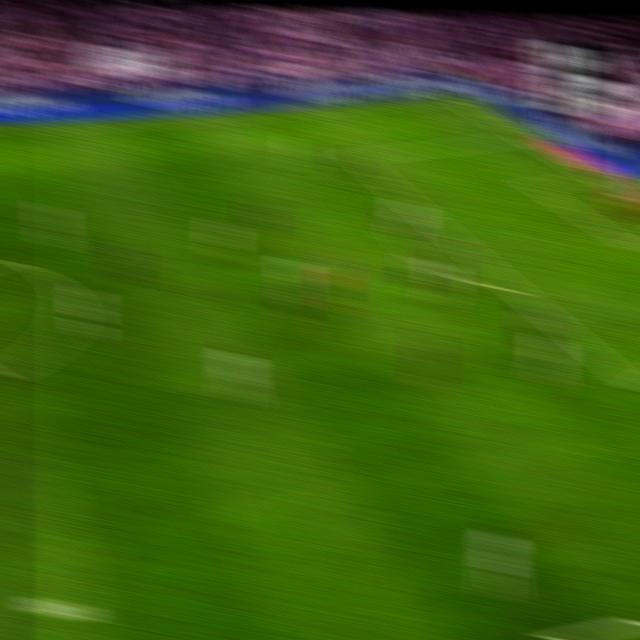bigarea_bottom_inner: (631, 377, 640, 410)
bigarea_top_inner: (346, 147, 367, 165)
bigarea_top_outter: (509, 128, 532, 145)
bottom_arc_area_intersection: (502, 278, 528, 300)
corner: (440, 91, 465, 105)
smallarea_top_inner: (525, 178, 547, 192)
top_arc_area_intersection: (406, 199, 430, 217)
